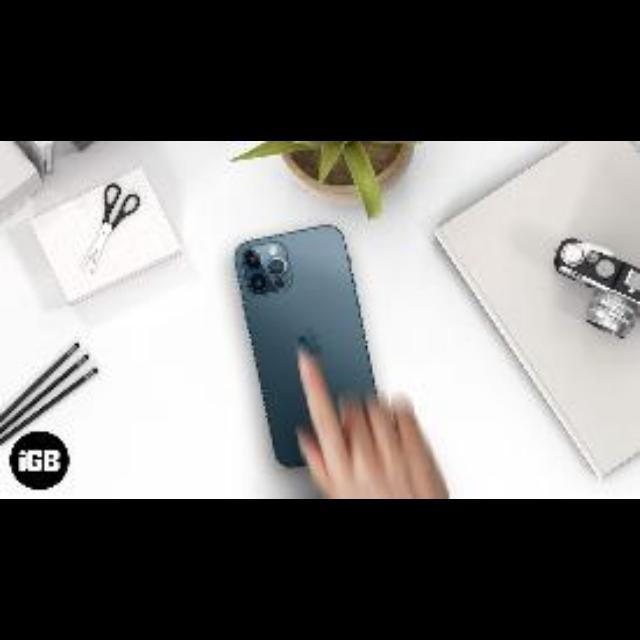Phone: (232, 225, 388, 471)
